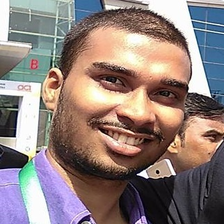no_mask: (68, 29, 182, 178)
